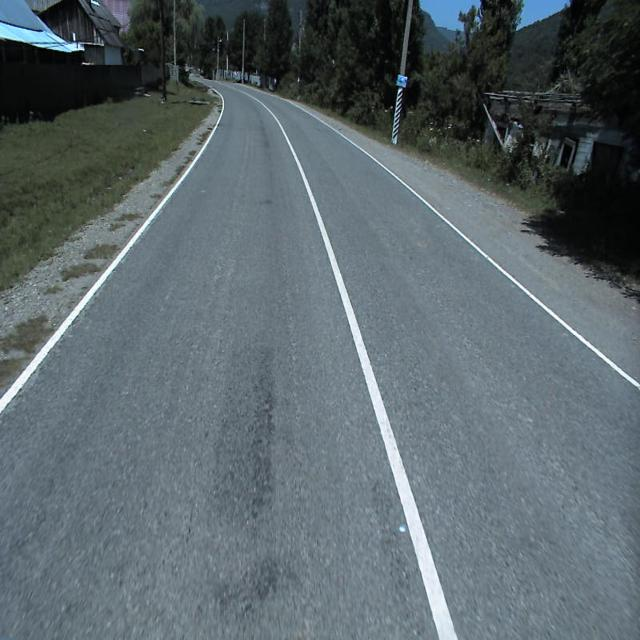road: (0, 76, 640, 639), (190, 74, 192, 75)
